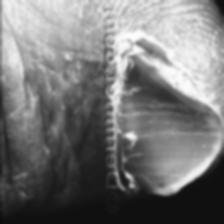Toxin: (121, 33, 224, 197)
